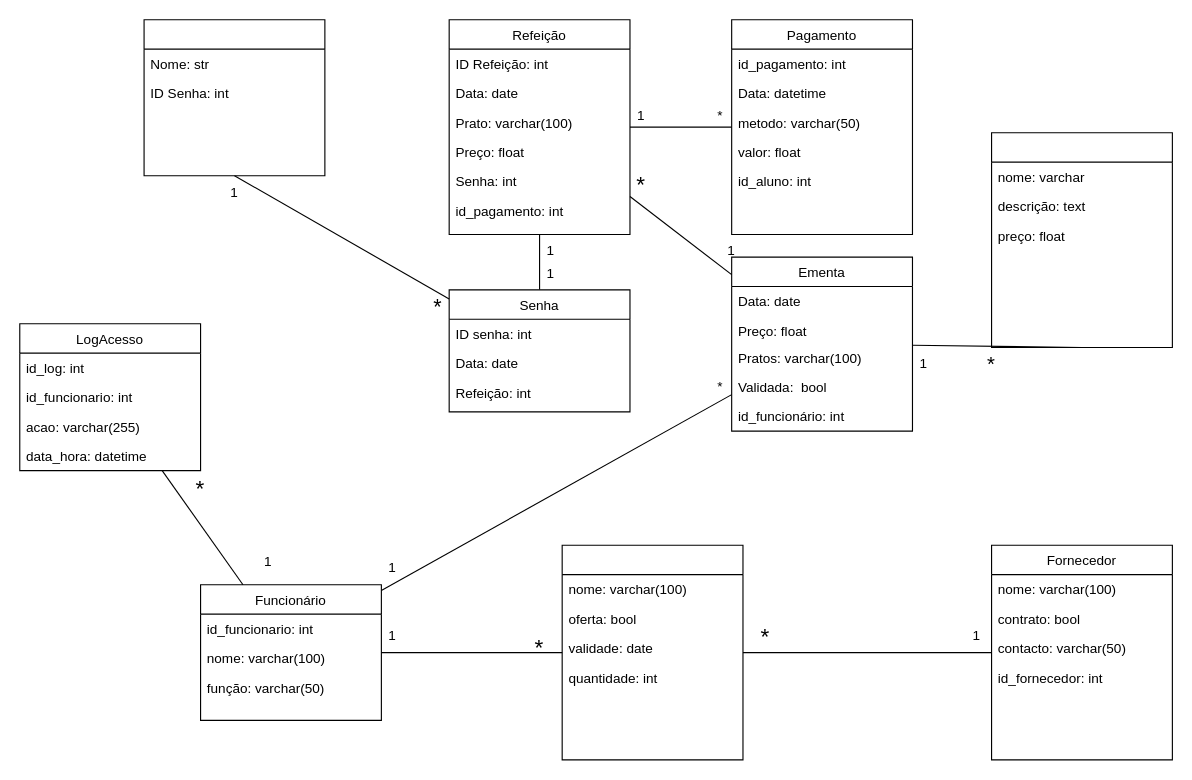
The diagram is 1192 pixels wide and 780 high, and some of its shapes have lost their labels. Each missing label, with the box of its shape:
Aluno: (143, 19, 325, 176)
Artigo: (561, 544, 743, 760)
Prato: (990, 132, 1172, 347)
